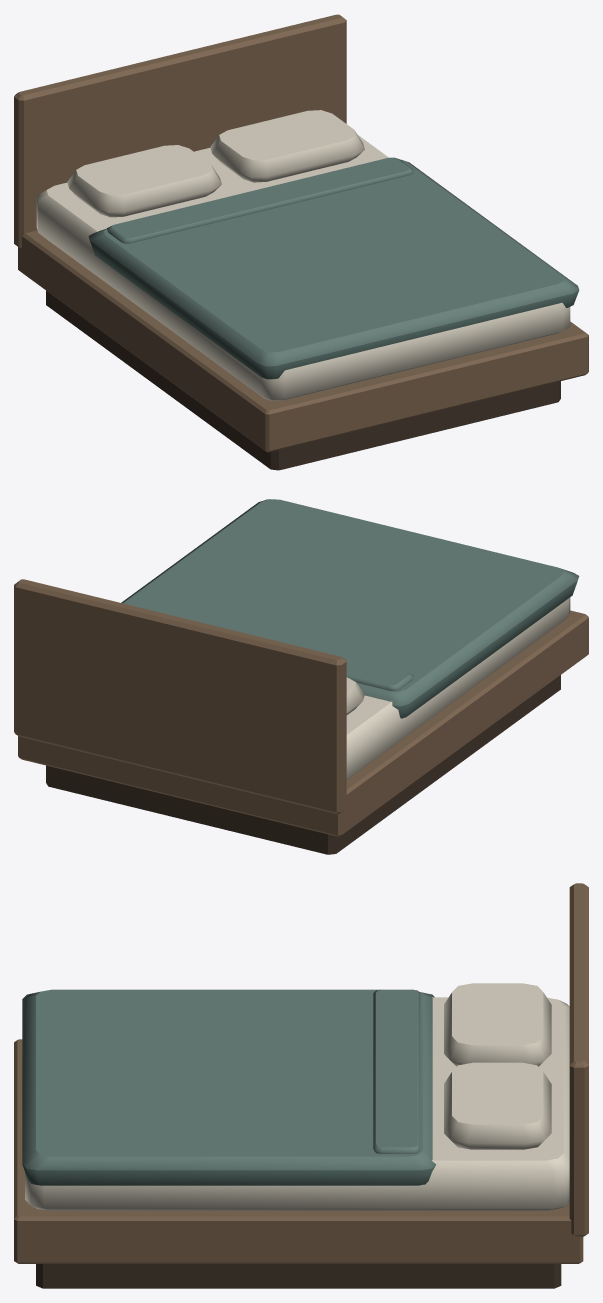
Rendered from Motel_Bed.fbx.
3 renders of one model, top to bottom at view 1: azimuth 30°, elevation 25°; view 2: azimuth 150°, elevation 25°; view 3: azimuth 270°, elevation 25°, orthographic. The views are drawn at different scales.
Visible parts, largest first — view 1: Motel_Bed; view 2: Motel_Bed; view 3: Motel_Bed.
Boxes of the visible parts, x1,y1,x2,y2 form: Motel_Bed: (14,14,588,470); Motel_Bed: (14,499,588,854); Motel_Bed: (14,883,588,1288).
Bounding box in the file's own units: 1.56 × 0.94 × 2.08.
